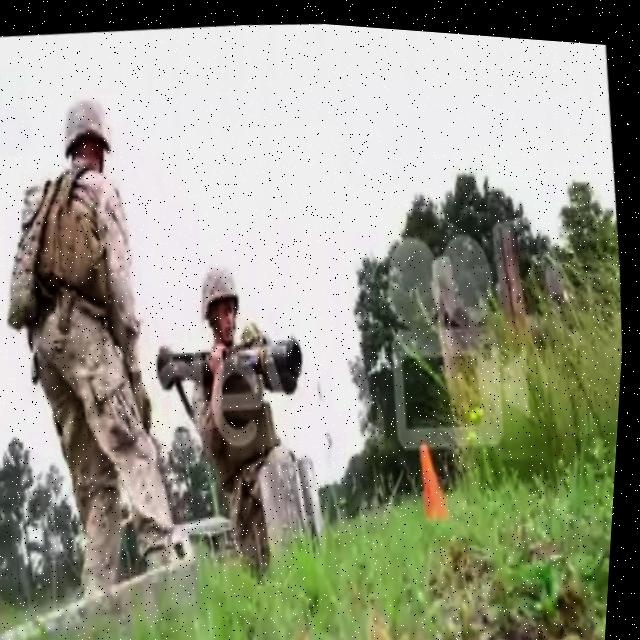rocket: (155, 320, 309, 400)
